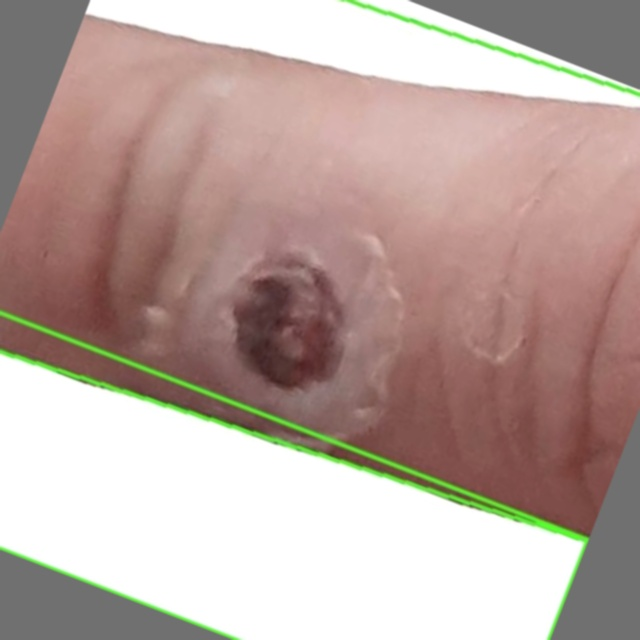Scabies: (0, 0, 639, 544), (0, 312, 587, 639)
